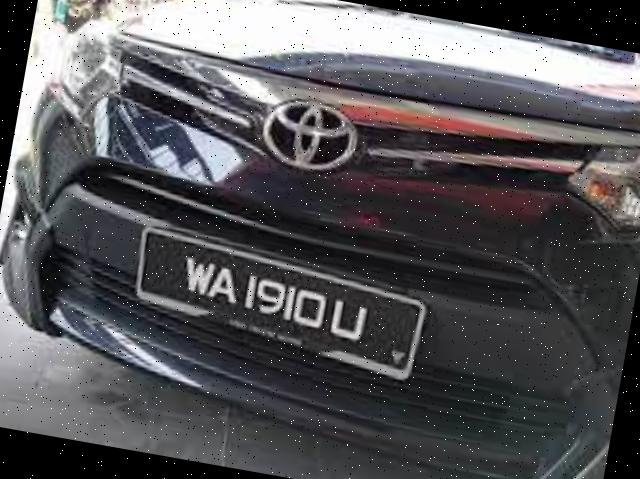License_Plate: (111, 211, 442, 402)
car: (1, 1, 640, 479)
